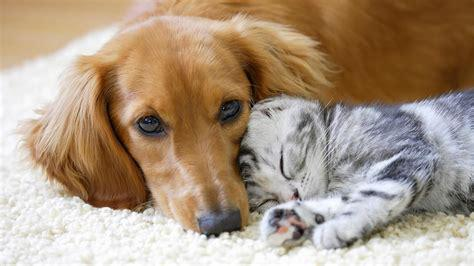cat: (242, 93, 474, 247)
dog: (28, 1, 474, 235)
